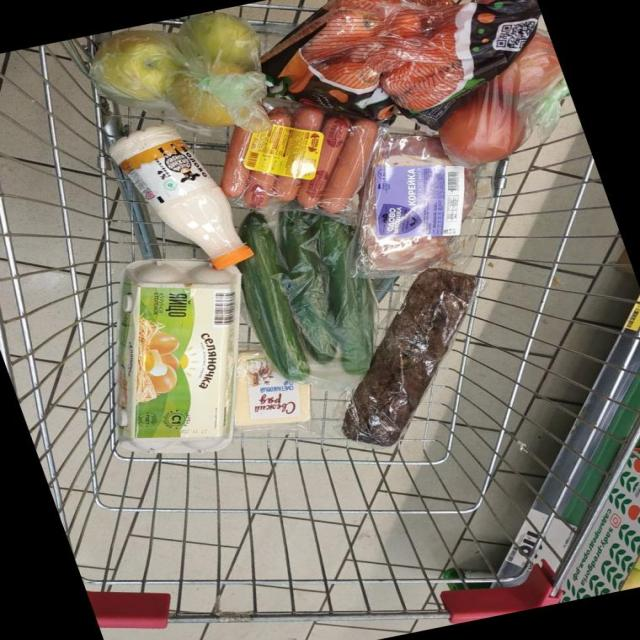apple: (121, 66, 345, 172), (125, 32, 377, 88), (74, 56, 257, 121)
carrot: (218, 58, 640, 134), (210, 28, 595, 99), (173, 27, 493, 89), (186, 0, 487, 36), (156, 2, 519, 13)
cheese: (147, 195, 416, 560)
cucumber: (185, 168, 561, 474), (138, 187, 431, 569), (164, 181, 492, 457)
egg: (47, 225, 227, 640)
milk: (132, 130, 370, 369)
tomato: (239, 36, 640, 129), (273, 59, 640, 155)
